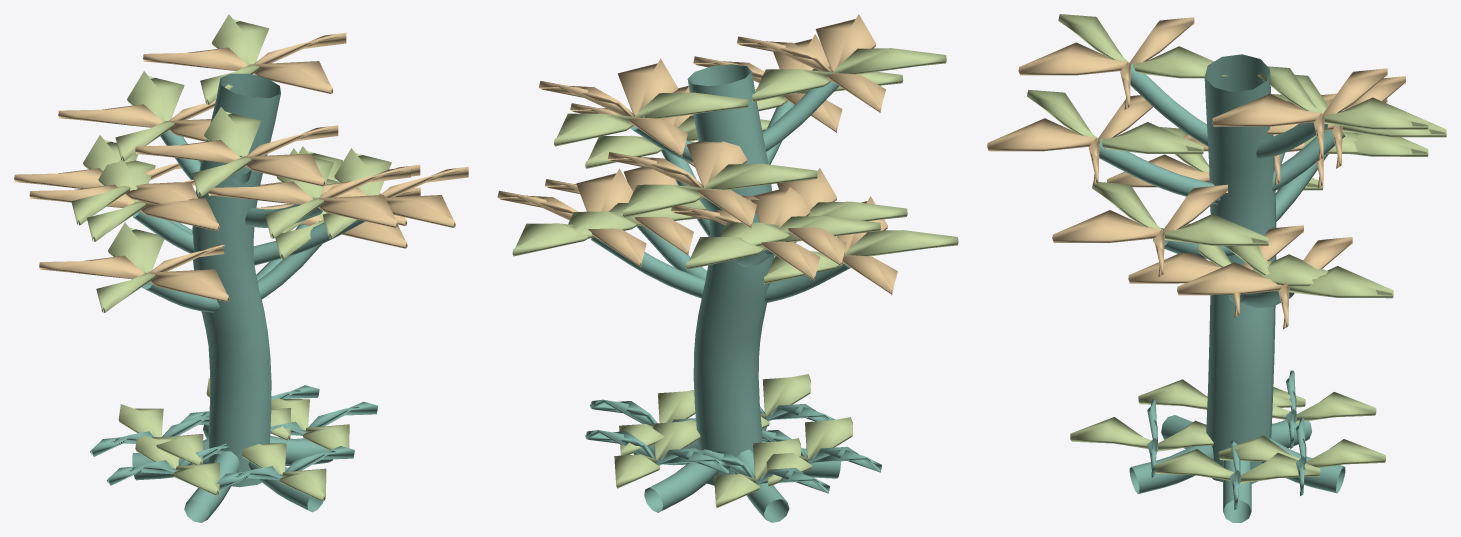
Rendered from bio_canopy_tree_25_far.glb.
3 renders of one model, left to right at view 1: azimuth 30°, elevation 25°; view 2: azimuth 150°, elevation 25°; view 3: azimuth 270°, elevation 25°, orthographic. The views are drawn at different scales.
Visible parts, largest first — view 1: Buttressed trunk, Broad canopy leaf.035, Broad canopy leaf.015, Broad canopy leaf.010, Broad canopy leaf.020, Broad canopy leaf.005, Broad canopy leaf.045, Broad canopy leaf.036, Broad canopy leaf.025, Broad canopy leaf.021, Broad canopy leaf.031, Broad canopy leaf.030 (+17 smaller); view 2: Buttressed trunk, Broad canopy leaf.035, Broad canopy leaf.015, Broad canopy leaf.030, Broad canopy leaf.016, Broad canopy leaf.031, Broad canopy leaf.036, Broad canopy leaf.040, Broad canopy leaf.005, Broad canopy leaf.006, Broad canopy leaf.021, Broad canopy leaf.046 (+19 smaller); view 3: Buttressed trunk, Broad canopy leaf.035, Broad canopy leaf.015, Broad canopy leaf.025, Broad canopy leaf.010, Broad canopy leaf.011, Broad canopy leaf.026, Broad canopy leaf.040, Broad canopy leaf.016, Broad canopy leaf.036, Broad canopy leaf, Low buttress leaf.001 (+14 smaller).
Boxes of the visible parts, x1=… form: Buttressed trunk: x1=132, y1=73, x2=365, y2=522; Broad canopy leaf.035: x1=135, y1=125, x2=338, y2=186; Broad canopy leaf.015: x1=143, y1=33, x2=346, y2=93; Broad canopy leaf.010: x1=208, y1=166, x2=410, y2=227; Broad canopy leaf.020: x1=39, y1=244, x2=229, y2=302; Broad canopy leaf.005: x1=14, y1=160, x2=201, y2=204; Broad canopy leaf.045: x1=29, y1=179, x2=219, y2=231; Broad canopy leaf.036: x1=192, y1=107, x2=261, y2=197; Broad canopy leaf.025: x1=321, y1=166, x2=468, y2=227; Broad canopy leaf.021: x1=96, y1=222, x2=164, y2=312; Broad canopy leaf.031: x1=115, y1=71, x2=184, y2=161; Broad canopy leaf.030: x1=58, y1=100, x2=215, y2=141; Buttressed trunk: x1=590, y1=64, x2=850, y2=522; Broad canopy leaf.035: x1=737, y1=14, x2=885, y2=112; Broad canopy leaf.015: x1=539, y1=58, x2=687, y2=157; Broad canopy leaf.030: x1=608, y1=140, x2=756, y2=228; Broad canopy leaf.016: x1=554, y1=92, x2=748, y2=146; Broad canopy leaf.031: x1=623, y1=163, x2=817, y2=217; Broad canopy leaf.036: x1=752, y1=48, x2=946, y2=101; Broad canopy leaf.040: x1=497, y1=168, x2=646, y2=267; Broad canopy leaf.005: x1=671, y1=187, x2=820, y2=281; Broad canopy leaf.006: x1=686, y1=216, x2=880, y2=269; Broad canopy leaf.021: x1=763, y1=230, x2=958, y2=284; Broad canopy leaf.046: x1=720, y1=201, x2=907, y2=245; Buttressed trunk: x1=1099, y1=54, x2=1345, y2=522; Broad canopy leaf.035: x1=1018, y1=17, x2=1194, y2=109; Broad canopy leaf.015: x1=1212, y1=68, x2=1387, y2=160; Broad canopy leaf.025: x1=1052, y1=184, x2=1227, y2=277; Broad canopy leaf.010: x1=987, y1=95, x2=1152, y2=185; Broad canopy leaf.011: x1=1027, y1=89, x2=1203, y2=154; Broad canopy leaf.026: x1=1092, y1=182, x2=1268, y2=245; Broad canopy leaf.040: x1=1177, y1=237, x2=1352, y2=329; Broad canopy leaf.016: x1=1257, y1=66, x2=1428, y2=129; Broad canopy leaf.036: x1=1058, y1=14, x2=1227, y2=78; Broad canopy leaf: x1=1128, y1=225, x2=1303, y2=317; Low buttress leaf.001: x1=1155, y1=449, x2=1320, y2=483.
Size of the model in its own units: 3.06 by 3.05 by 3.05.
